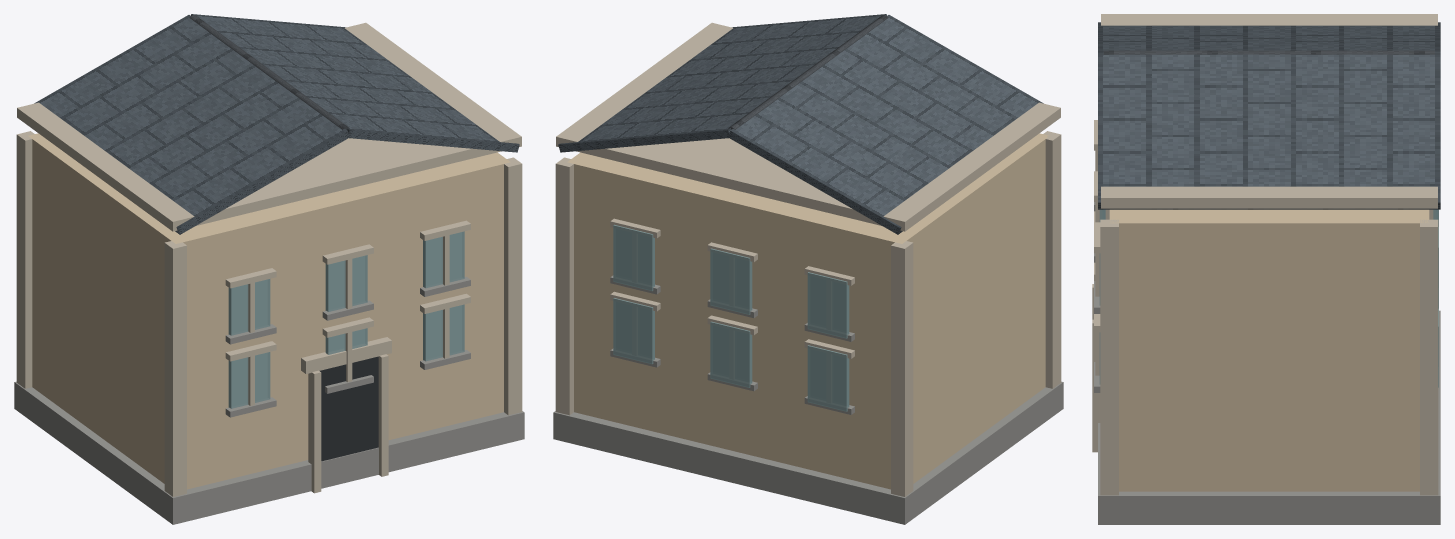
The model's file is procedural_oilwell@5.glb.
3 renders of one model, left to right at view 1: azimuth 30°, elevation 25°; view 2: azimuth 150°, elevation 25°; view 3: azimuth 270°, elevation 25°, orthographic. The views are drawn at different scales.
Parts seen in each view (by area): view 1: part_1, part_5, part_2, part_0, part_4, part_3, part_6; view 2: part_1, part_5, part_2, part_0, part_4, part_6; view 3: part_1, part_5, part_2, part_0, part_6, part_4.
Boxes of the visible parts, <box> form: part_1: <box>28,133,510,489</box>; part_5: <box>34,14,519,234</box>; part_2: <box>16,22,522,496</box>; part_0: <box>14,276,524,524</box>; part_4: <box>228,231,464,408</box>; part_3: <box>320,356,378,461</box>; part_6: <box>189,15,349,129</box>; part_1: <box>567,133,1048,489</box>; part_5: <box>558,14,1043,234</box>; part_2: <box>555,22,1061,496</box>; part_0: <box>553,275,1063,524</box>; part_4: <box>613,224,849,411</box>; part_6: <box>728,15,888,129</box>; part_1: <box>1109,209,1429,491</box>; part_5: <box>1098,22,1440,209</box>; part_2: <box>1092,14,1438,495</box>; part_0: <box>1094,202,1440,524</box>; part_6: <box>1103,50,1434,54</box>; part_4: <box>1099,209,1438,387</box>.
Size of the model in its own units: 7.55 by 7.25 by 6.
Materials: 7 (2 with a texture image).
